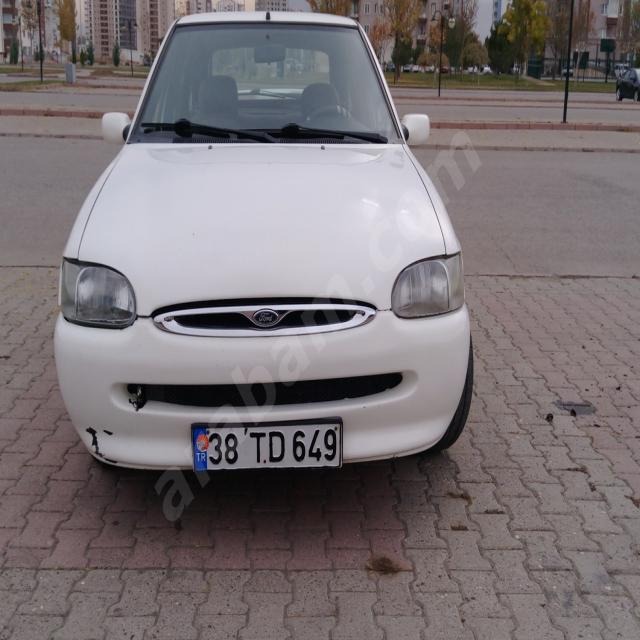license_plate: (193, 421, 341, 471)
